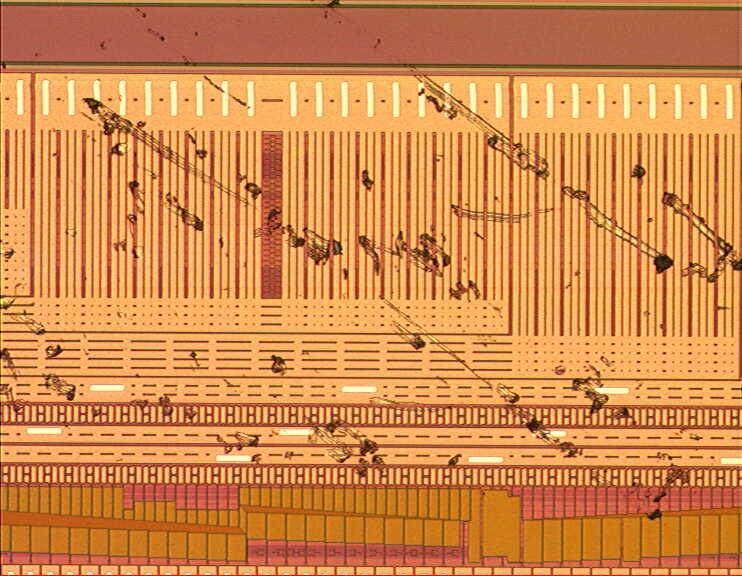SCRATCH: (1, 1, 742, 538)
